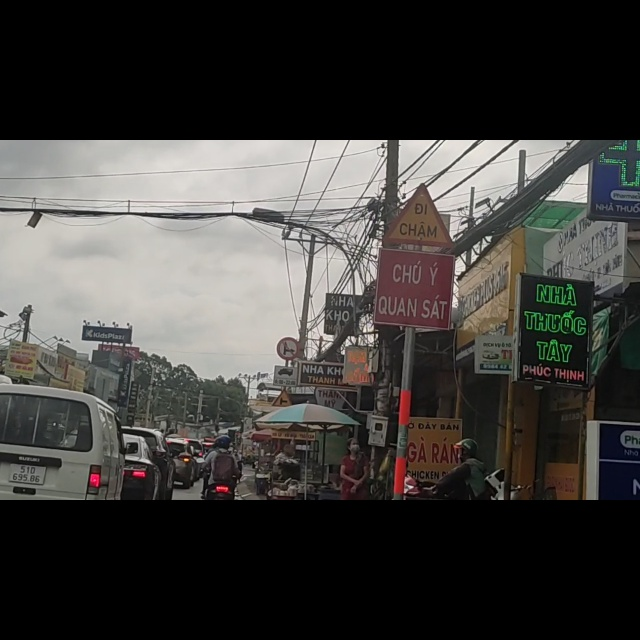bien_cam: (384, 78, 461, 193), (275, 344, 305, 395), (267, 442, 298, 478), (274, 403, 298, 437)
